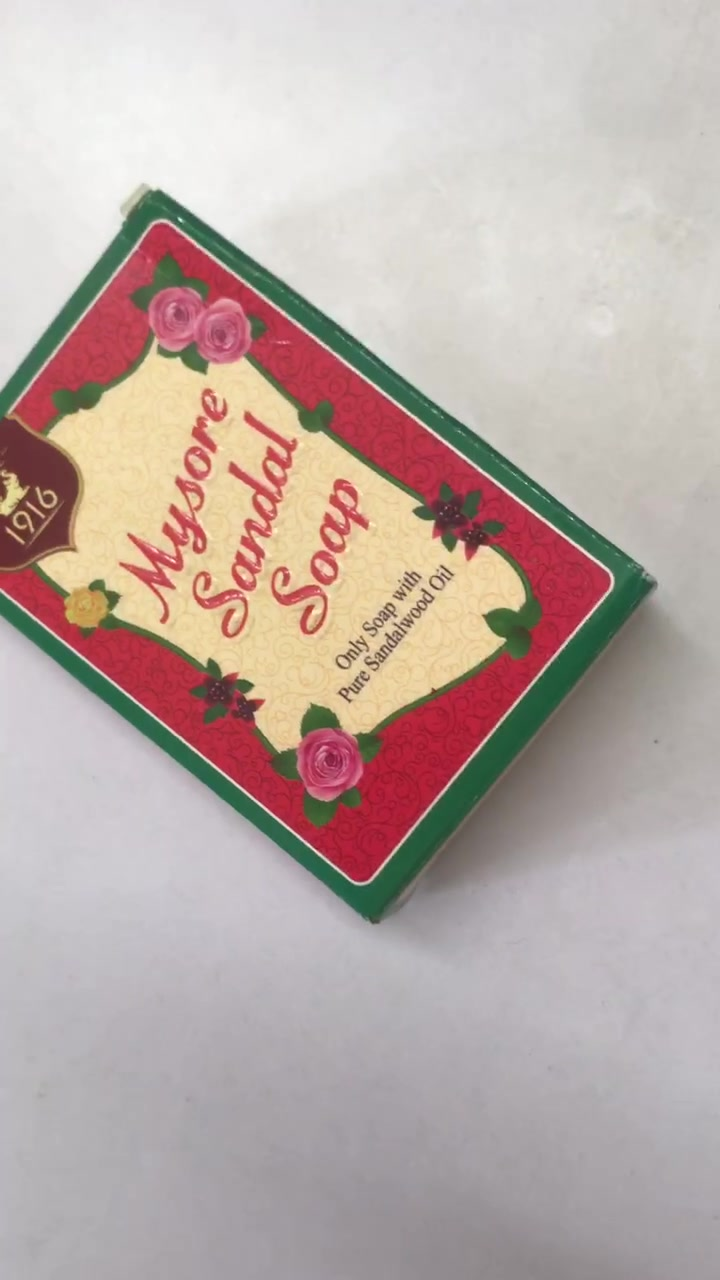mysore sandal soap: (5, 182, 659, 923)
